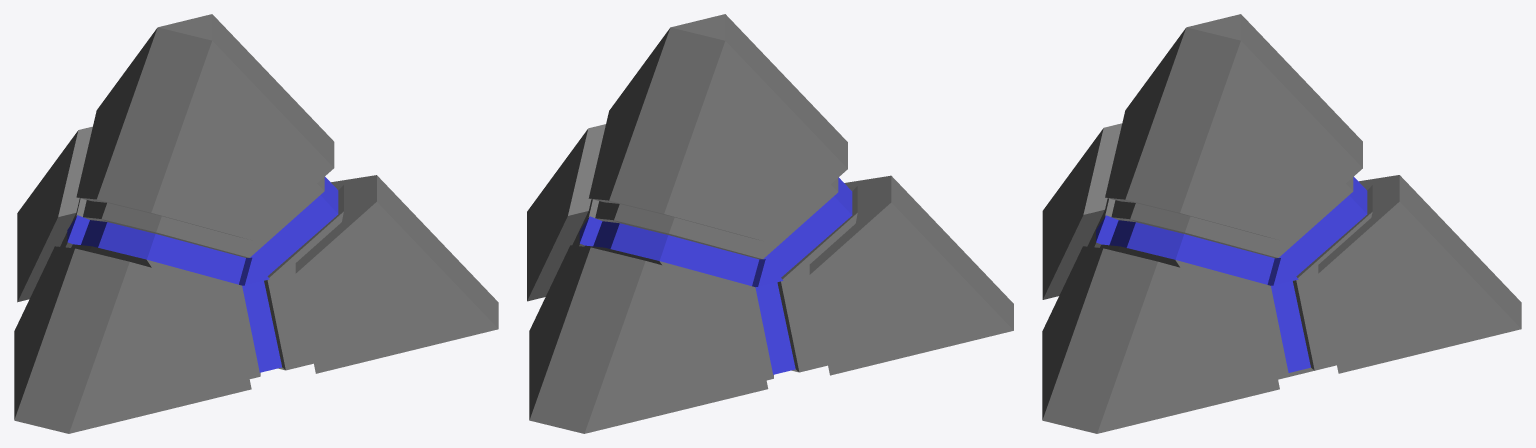
Rendered from Enemy001.fbx.
3 renders of one model, left to right at view 1: azimuth 30°, elevation 25°; view 2: azimuth 150°, elevation 25°; view 3: azimuth 270°, elevation 25°, orthographic.
Visible parts, largest first — view 1: 球; view 2: 球; view 3: 球.
Part boxes in pixels (x1=…): 球: x1=14, y1=14, x2=498, y2=433; 球: x1=527, y1=14, x2=1013, y2=433; 球: x1=1042, y1=14, x2=1521, y2=433.
Size of the model in its own units: 153 by 86.99 by 131.
